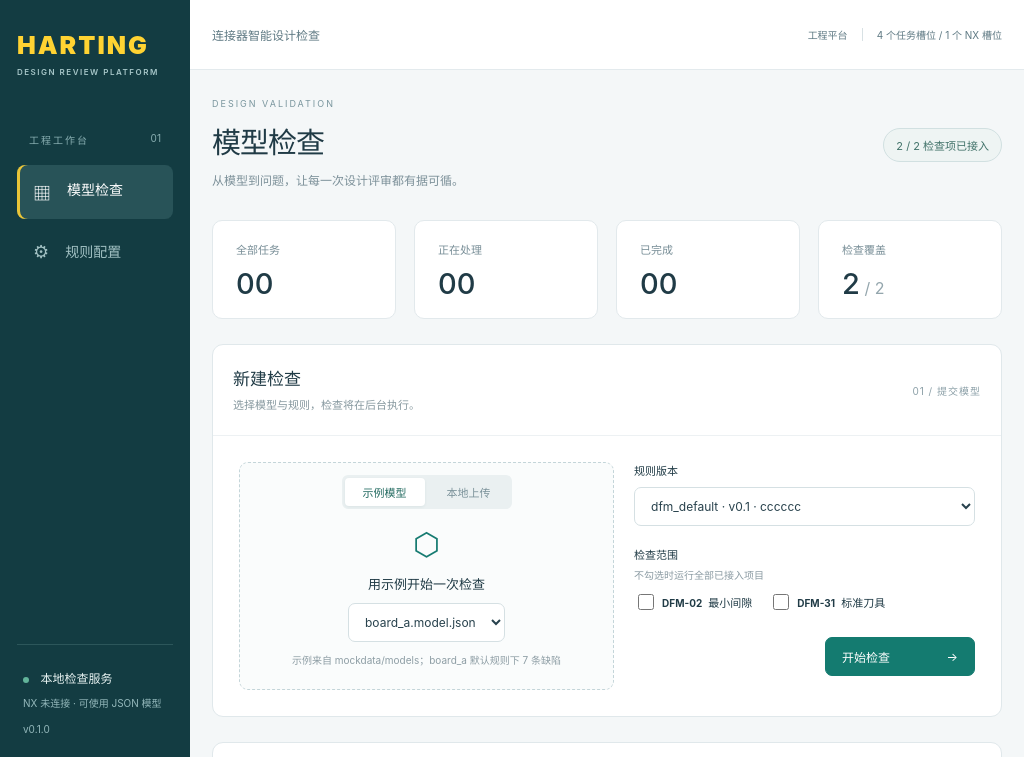
it: 平台 workflows › initializes without cloning reactive proxy errors and edits numeric/list parameters
Click the button "⚙ 规则配置" at [95, 252], box 17,227 -> 173,276
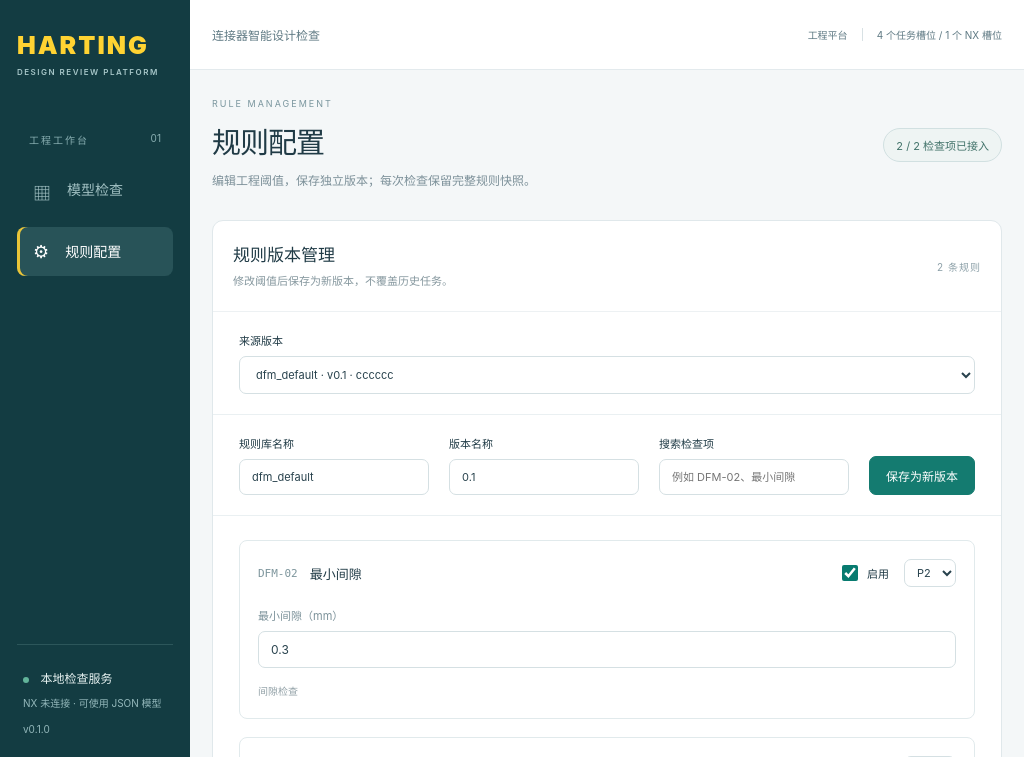
Replace the text in the number field labelled "最小间隙（mm）" with "0" at [607, 650], box 258,631 -> 956,668
(page scrolled)
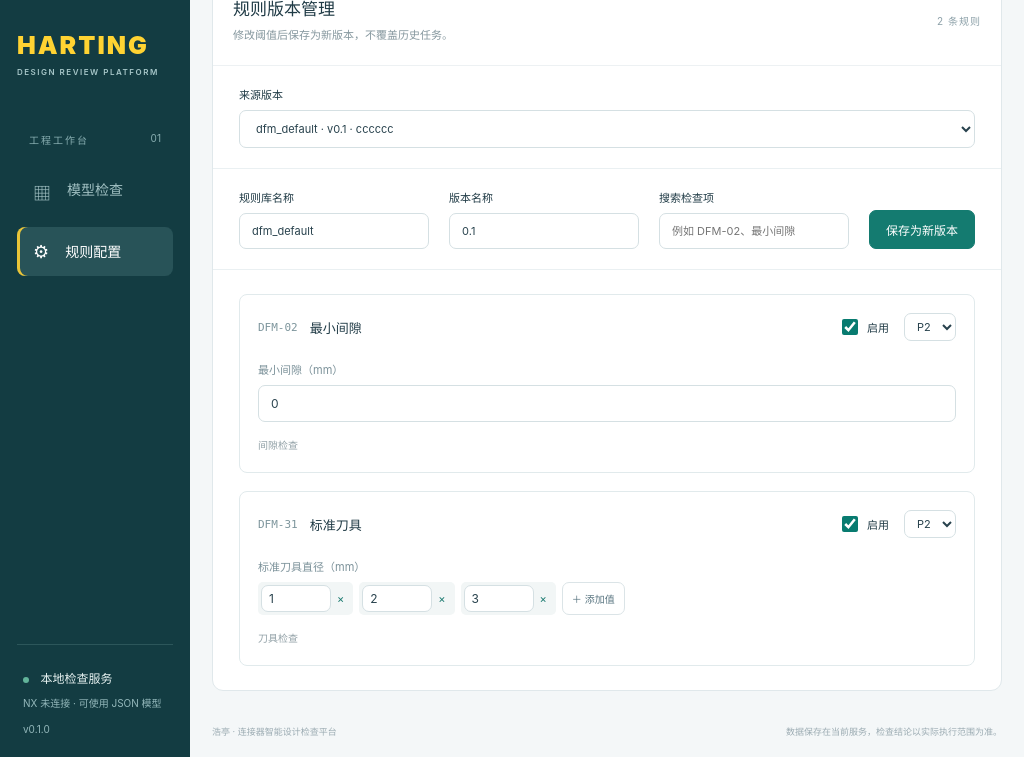
Click the button "＋ 添加值" at [593, 599], box 562,582 -> 625,615
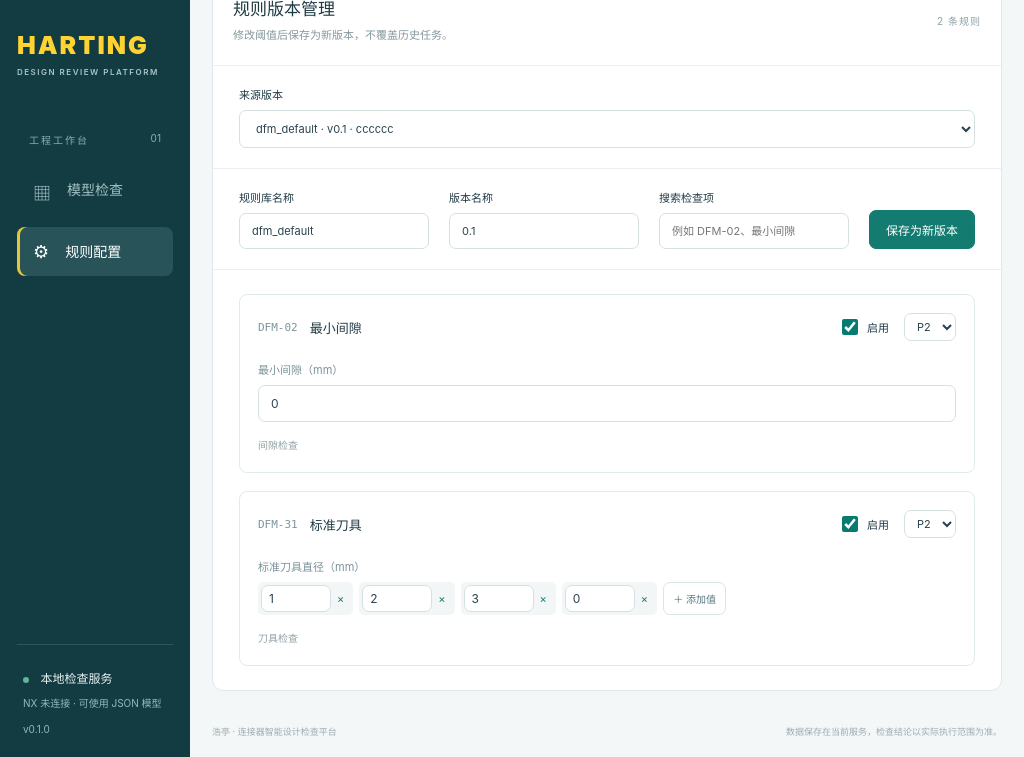
Submit the form, box 213,169 -> 1001,690
(page scrolled)
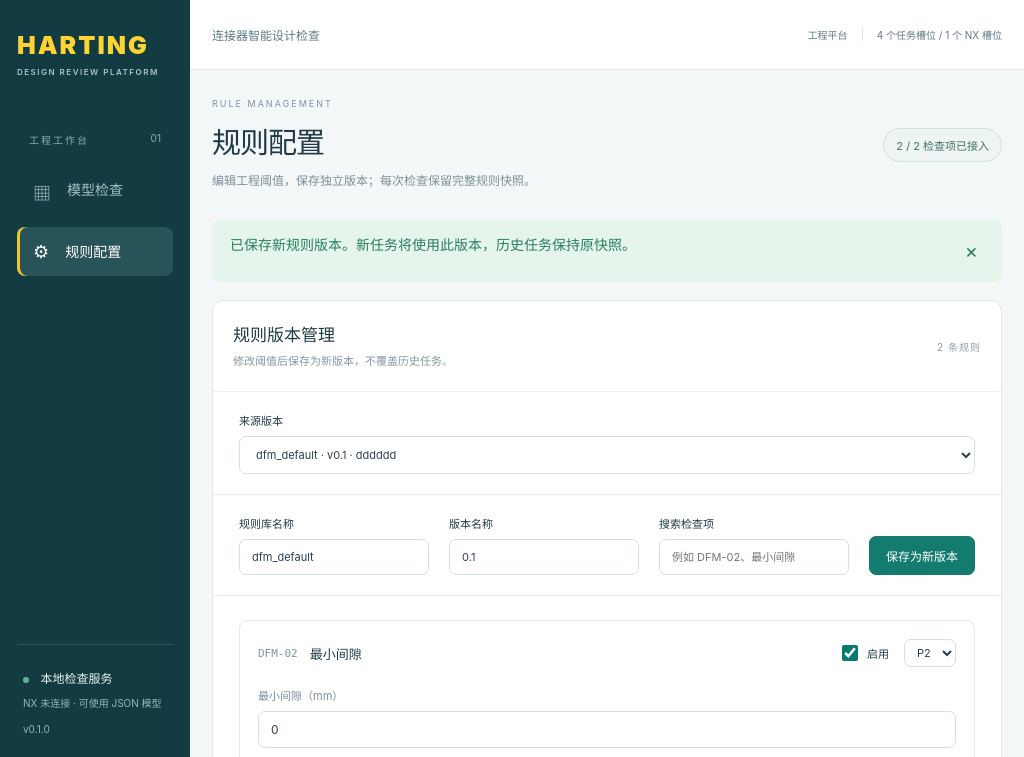
Expected: the message "已保存新规则版本。新任务将使用此版本，历史任务保持原快照。 ×" is shown, 212,220 -> 1002,282
